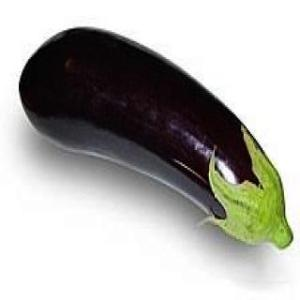eggplant: (20, 25, 294, 246)
